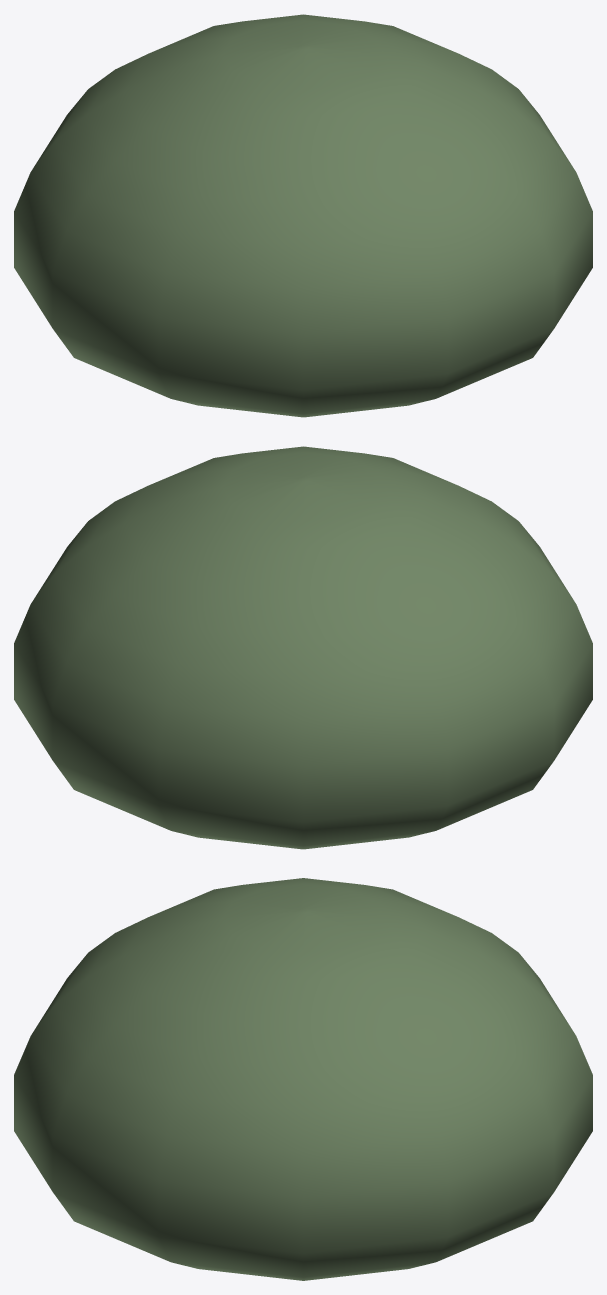
File: Cabbage_Palm_Fern_Analytical_0.obj
3 renders of one model, top to bottom at view 1: azimuth 30°, elevation 25°; view 2: azimuth 150°, elevation 25°; view 3: azimuth 270°, elevation 25°, orthographic.
Parts seen in each view (by area): view 1: AnalyticalCrown; view 2: AnalyticalCrown; view 3: AnalyticalCrown.
Boxes of the visible parts, left/top/right/bottom form: AnalyticalCrown: left=14, top=14, right=592, bottom=417; AnalyticalCrown: left=14, top=446, right=592, bottom=849; AnalyticalCrown: left=14, top=878, right=592, bottom=1280.
Size of the model in its own units: 1.7 by 1 by 1.7.
